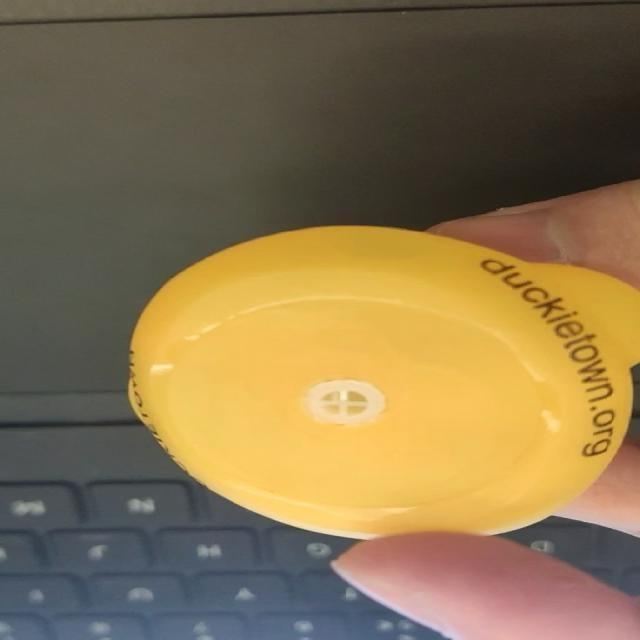rubber-duck: (128, 225, 638, 536)
